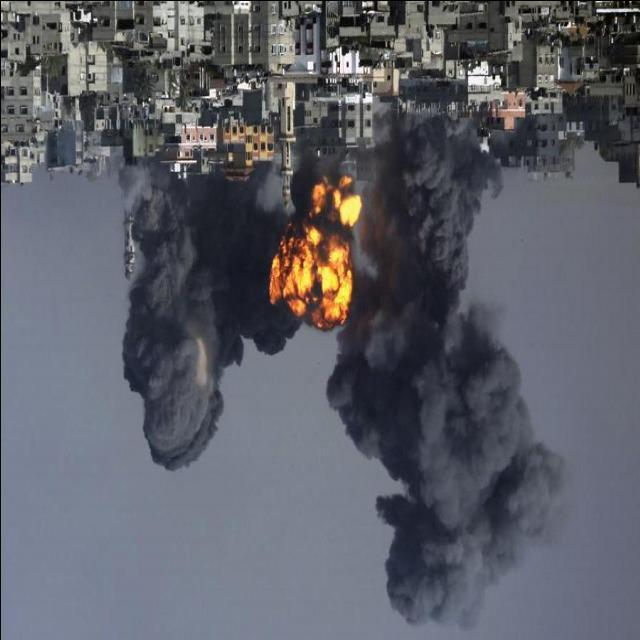Fire: (263, 166, 364, 334)
